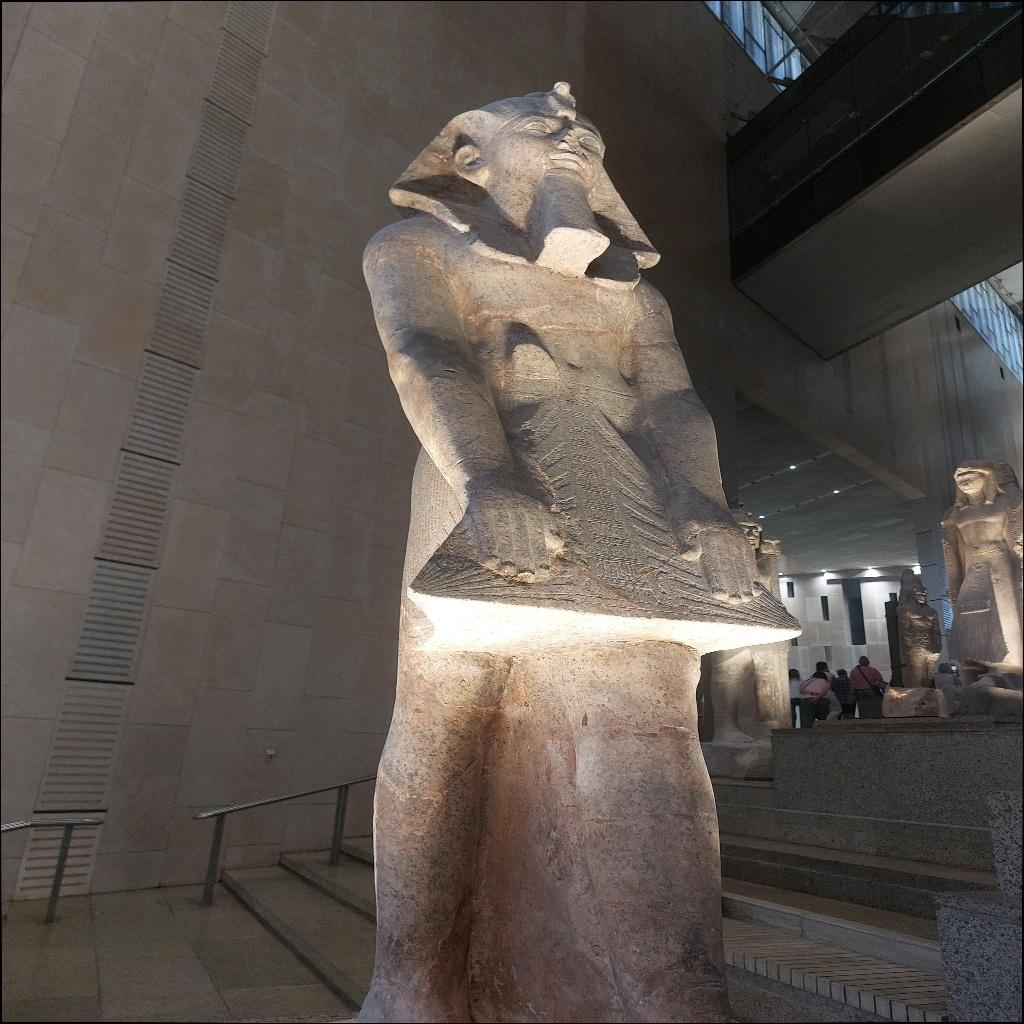Colossal Statue of Queen Hatshepsut: (344, 78, 806, 1018)
